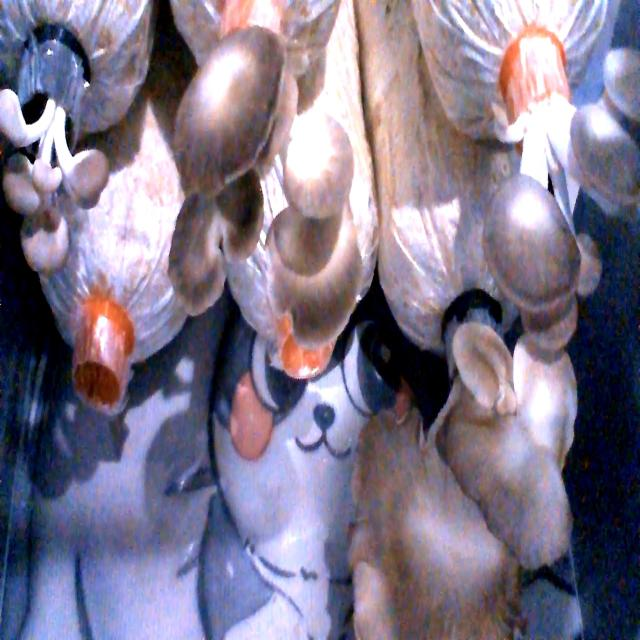big: (164, 50, 377, 342), (356, 363, 584, 634), (488, 42, 640, 324)
nfound: (51, 337, 145, 447), (272, 305, 336, 389)
small: (0, 77, 94, 278)
